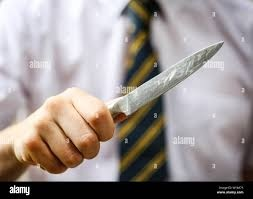knife: (76, 39, 225, 142)
